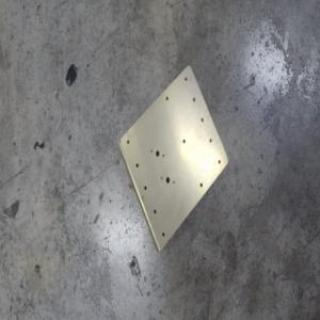MetalSheettrack_idkeyframe: (114, 63, 229, 255)
